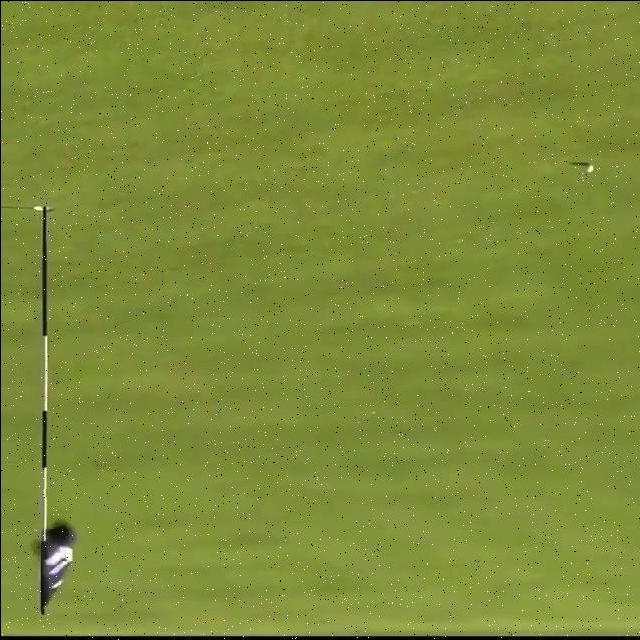golf ball: (585, 165, 592, 171)
